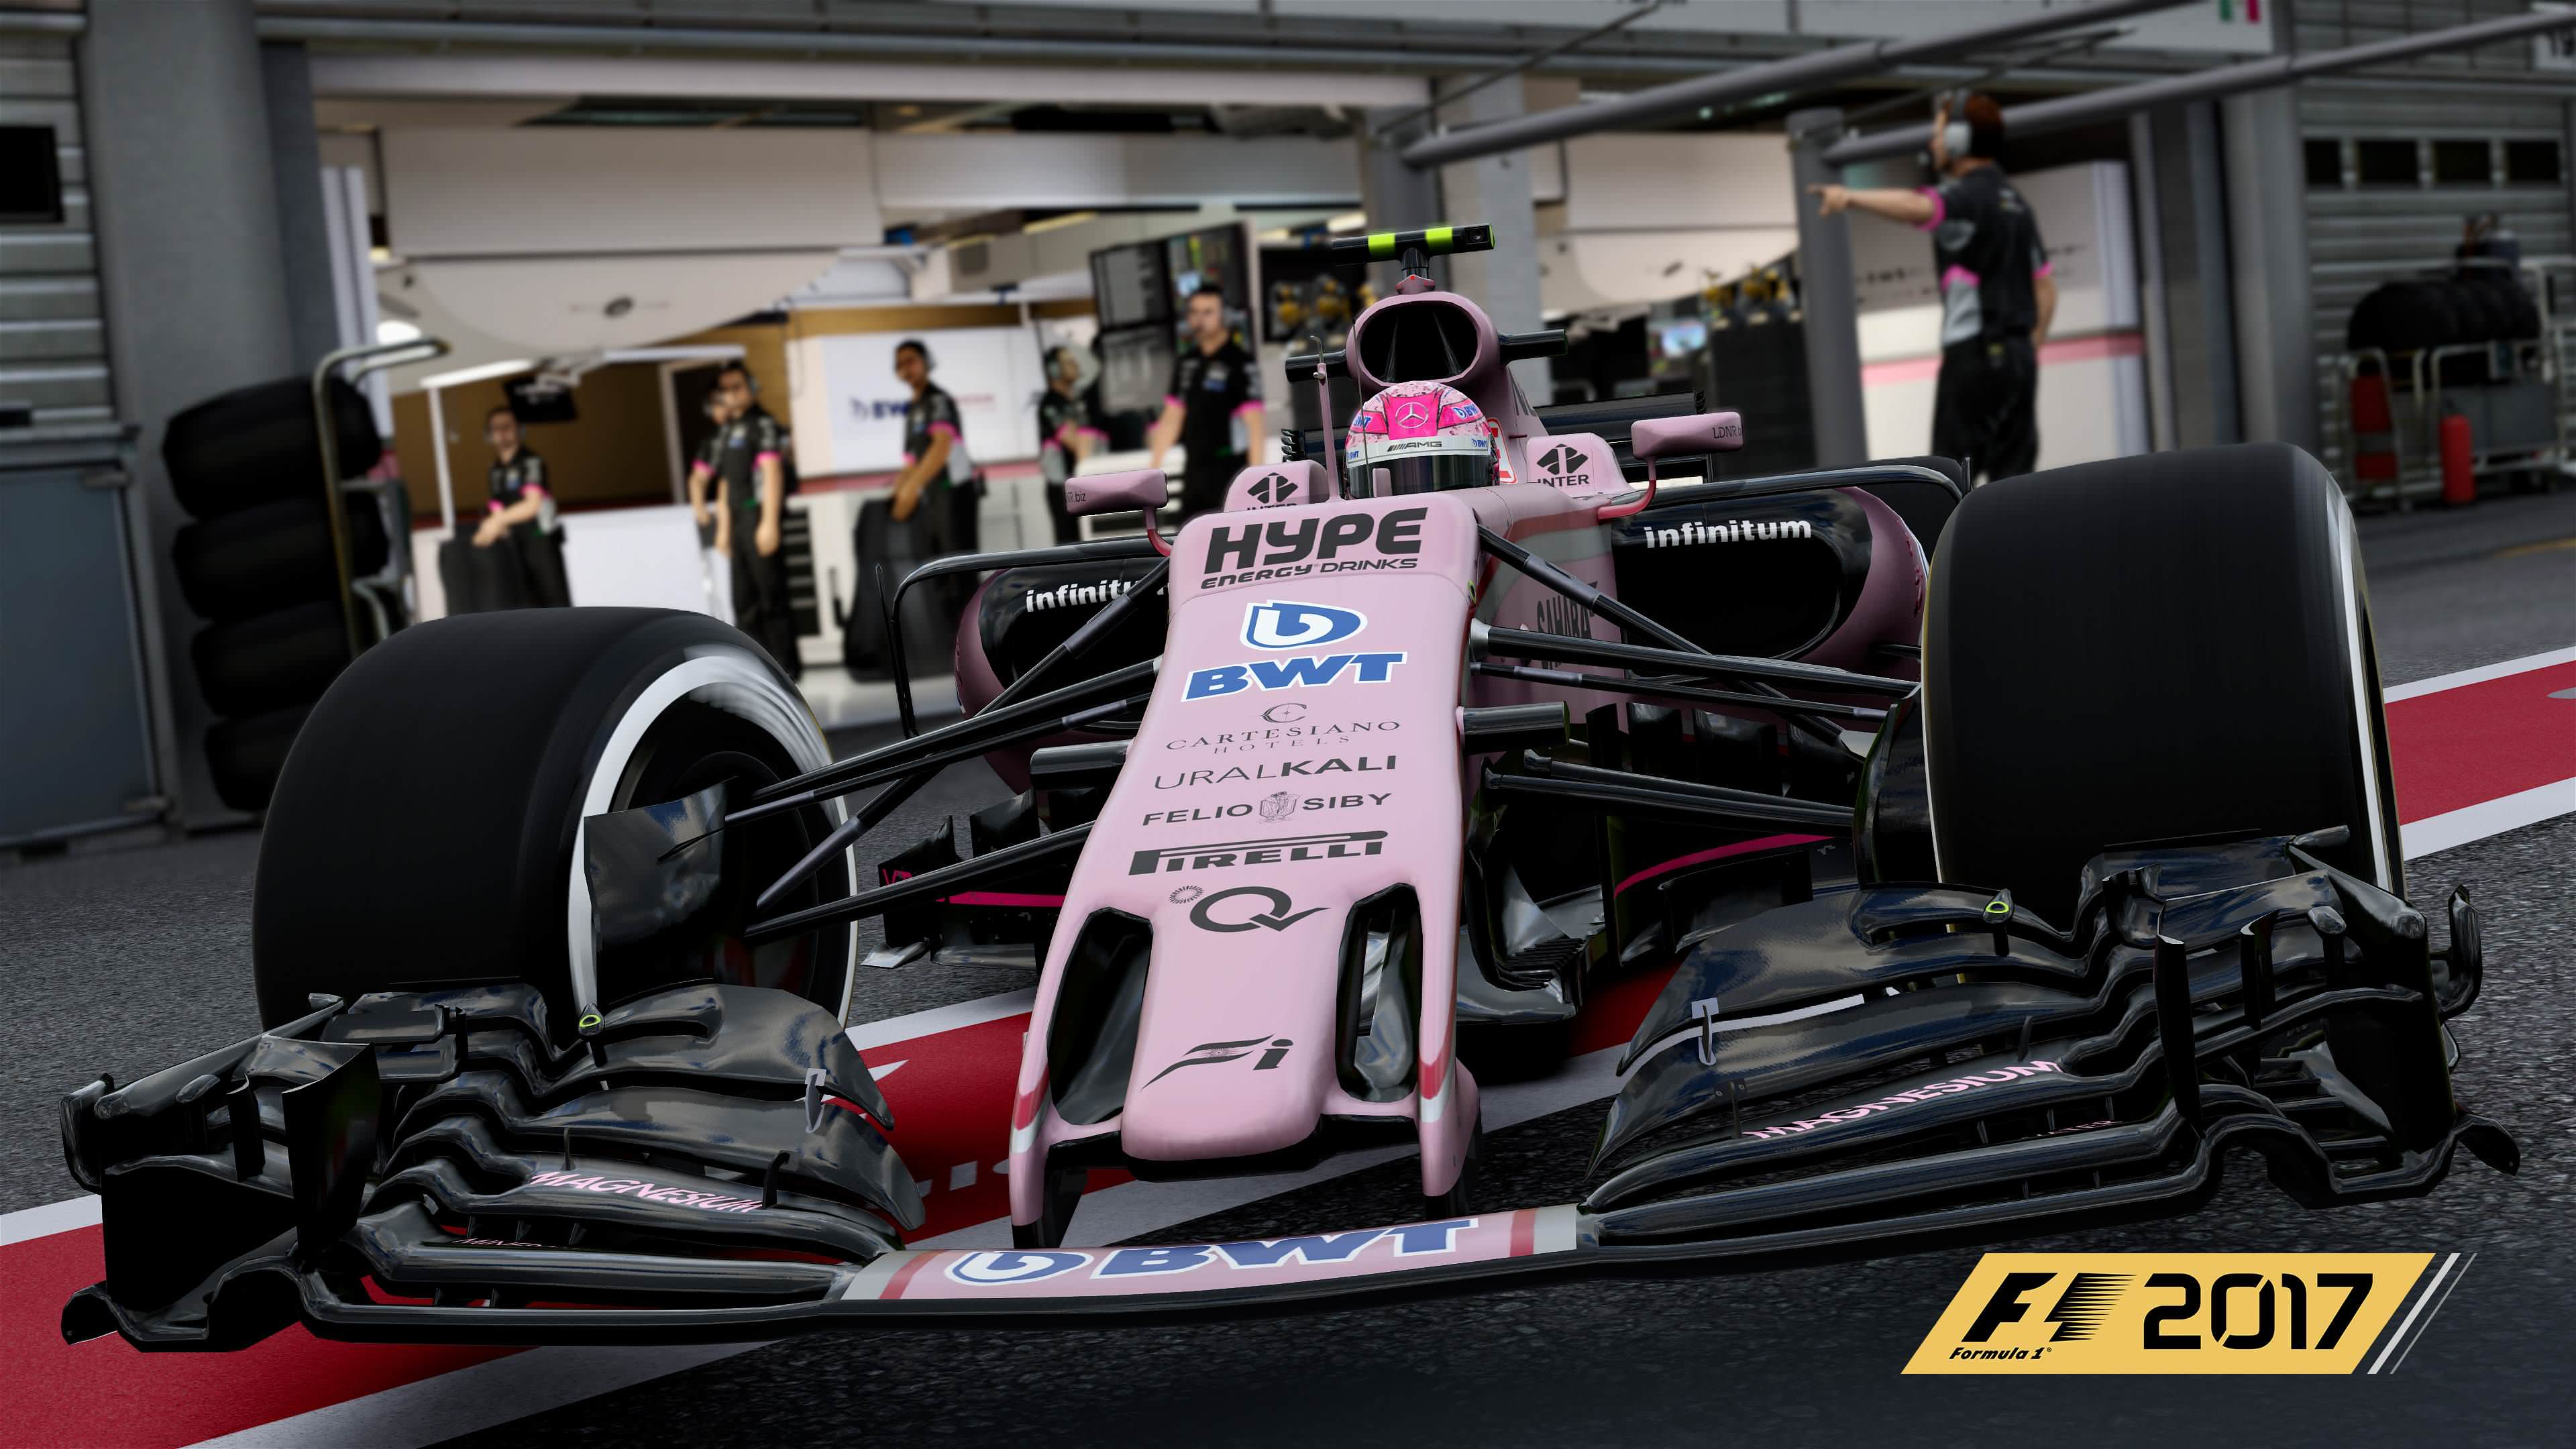f1_car: (39, 198, 2553, 1375)
helmet: (1323, 363, 1555, 547)
